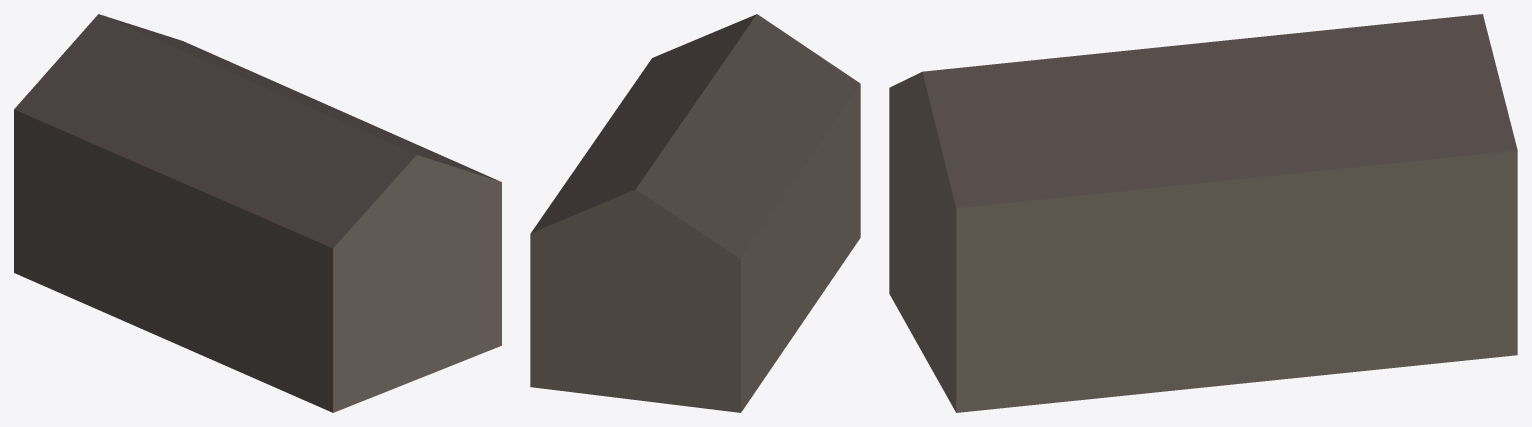
3 renders of one model, left to right at view 1: azimuth 30°, elevation 25°; view 2: azimuth 150°, elevation 25°; view 3: azimuth 270°, elevation 25°, orthographic. The views are drawn at different scales.
Visible parts, largest first — view 1: HP-w293398946; view 2: HP-w293398946; view 3: HP-w293398946.
Part boxes in pixels (x1,y1,x2,y2): HP-w293398946: [14, 14, 501, 412]; HP-w293398946: [530, 14, 860, 412]; HP-w293398946: [889, 14, 1517, 412].
Bounding box in the file's own units: 16.78 × 12.37 × 25.06.
